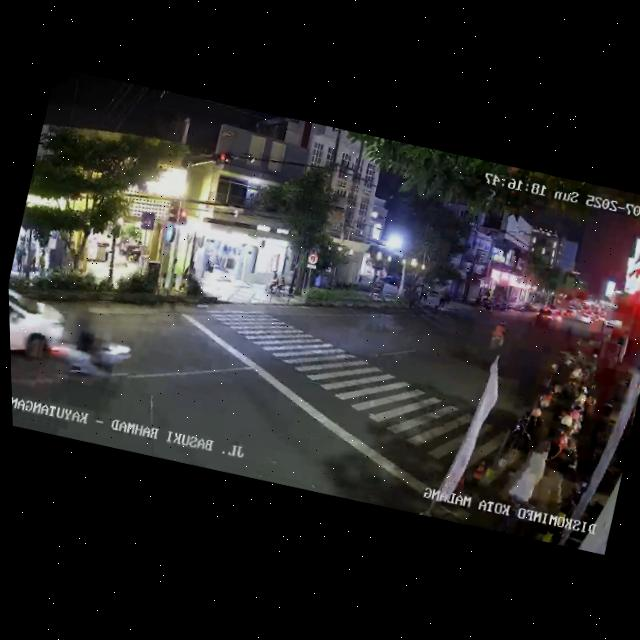car: (9, 285, 79, 388), (534, 303, 566, 328)
motorcycle: (486, 319, 509, 355)
person: (498, 443, 551, 540), (519, 460, 571, 544), (23, 241, 40, 275), (65, 243, 81, 272), (12, 242, 27, 272), (412, 280, 429, 305), (35, 250, 50, 277), (434, 287, 449, 313)
